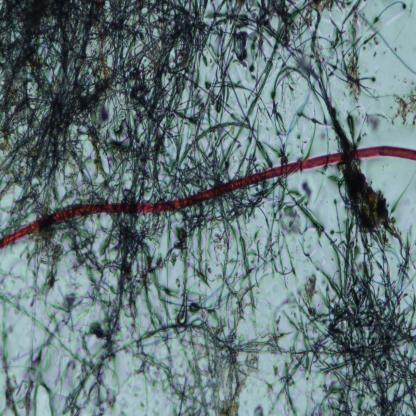Background material: (0, 228, 304, 416), (176, 0, 368, 197), (0, 1, 178, 204), (288, 193, 416, 415), (169, 179, 293, 229), (361, 1, 416, 91), (340, 162, 394, 231), (390, 91, 416, 126), (363, 106, 386, 137), (295, 180, 321, 204)
Microfibre: (0, 143, 416, 251)
